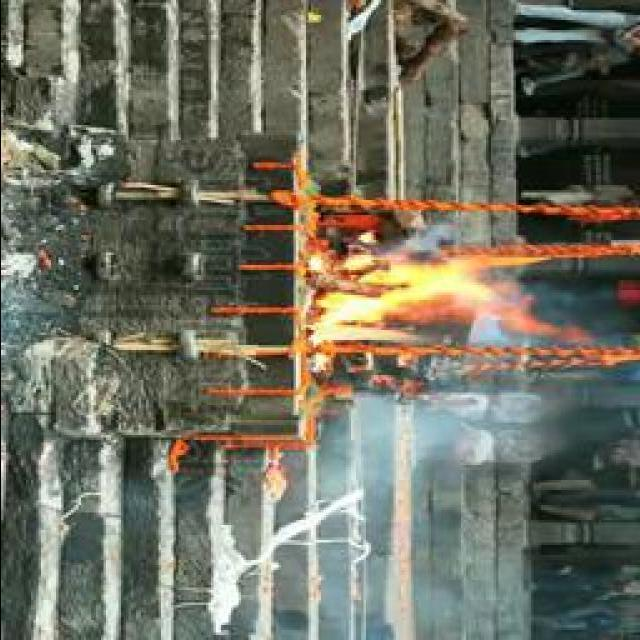Fire: (304, 252, 502, 344)
